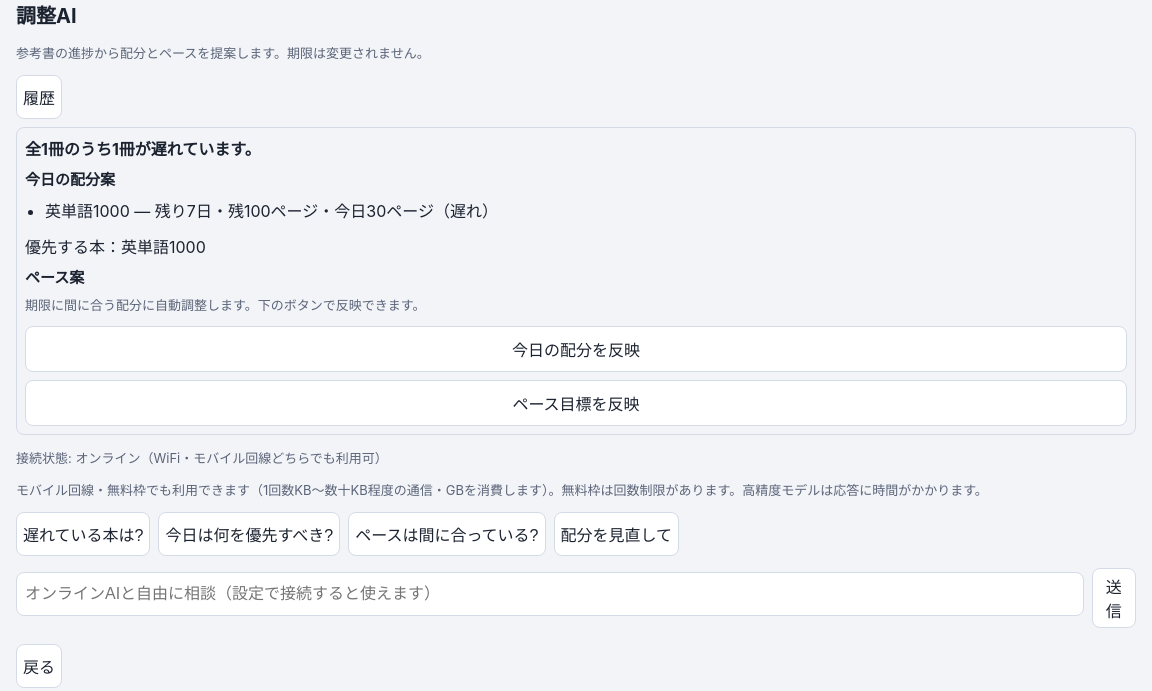
ChatScreen › dismisses the approval card on cancel without changing data
Expected: the text "全1冊のうち1冊が遅れています。" is shown, [25,139,261,159]
Type "消して" into the field with test id "chat-input" at (550, 594), box [16,572,1084,616]
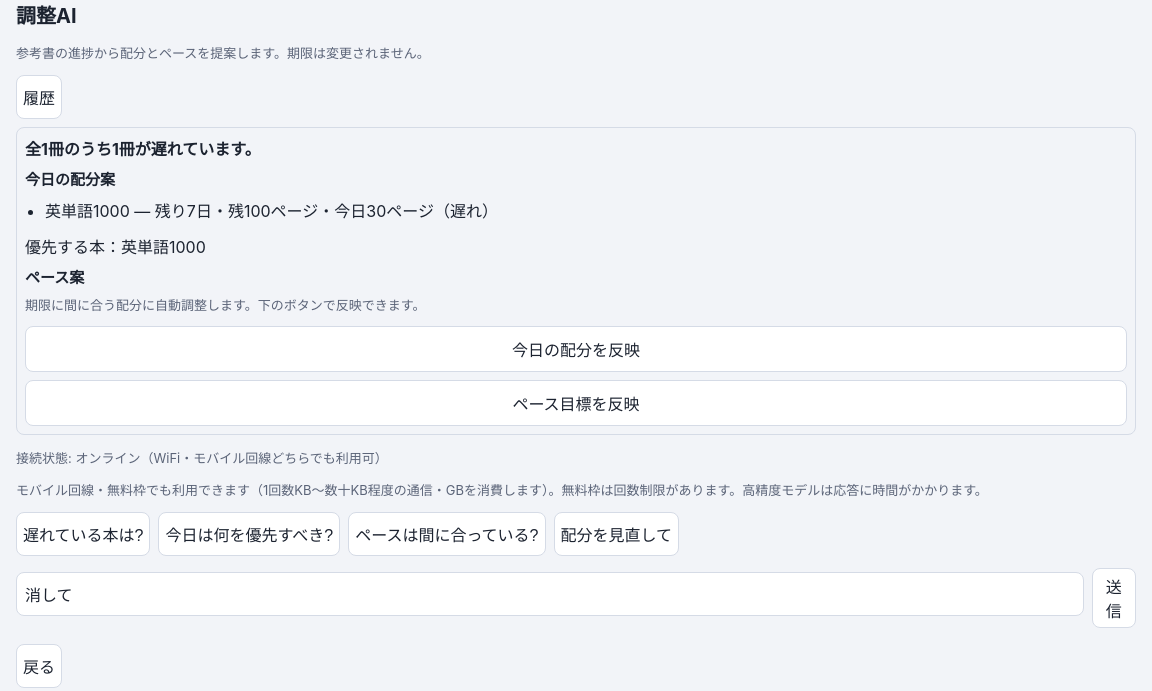
Click the button with test id "chat-send" at (1114, 598), box [1092,568,1136,628]
(page scrolled)
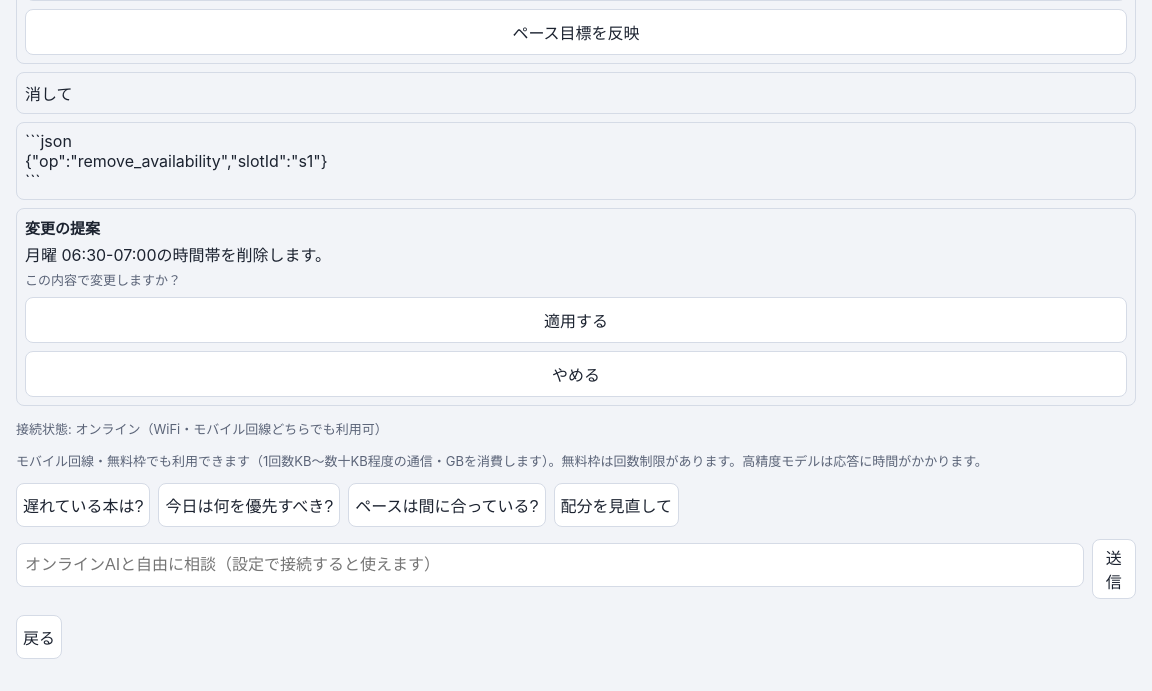
Expected: the element with test id "op-card" is shown, [16,208,1136,406]
Click the button with test id "op-cancel" at (576, 374), box [25,351,1127,397]
(page scrolled)
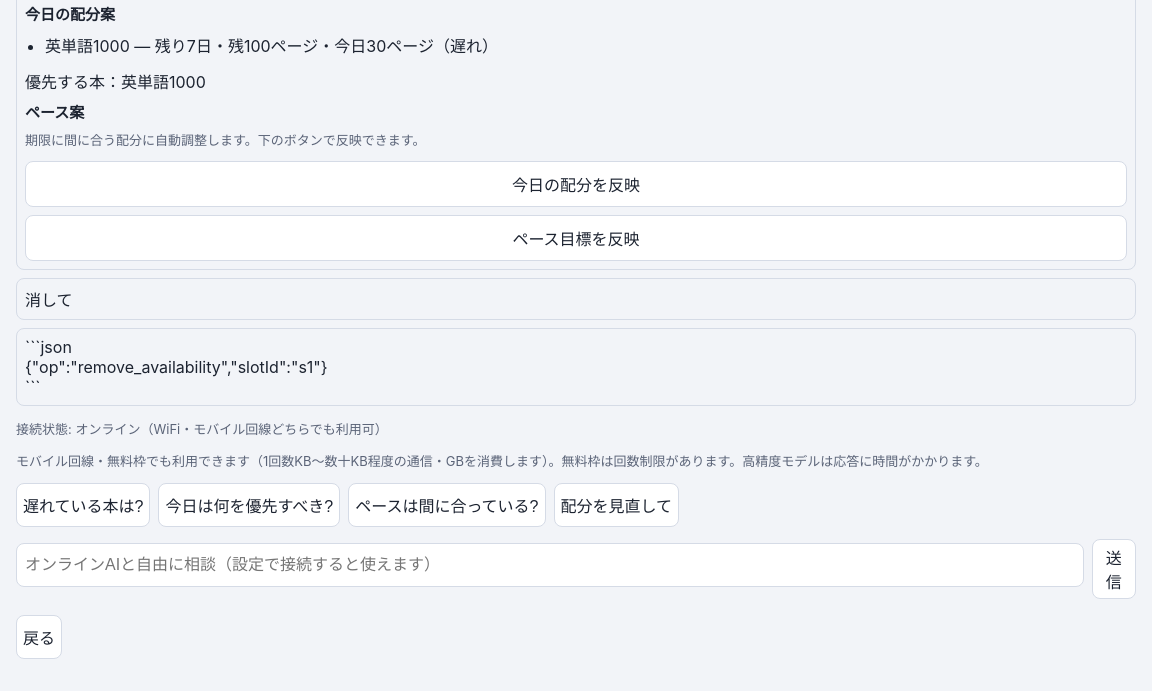
Expected: the element with test id "op-card" is gone
